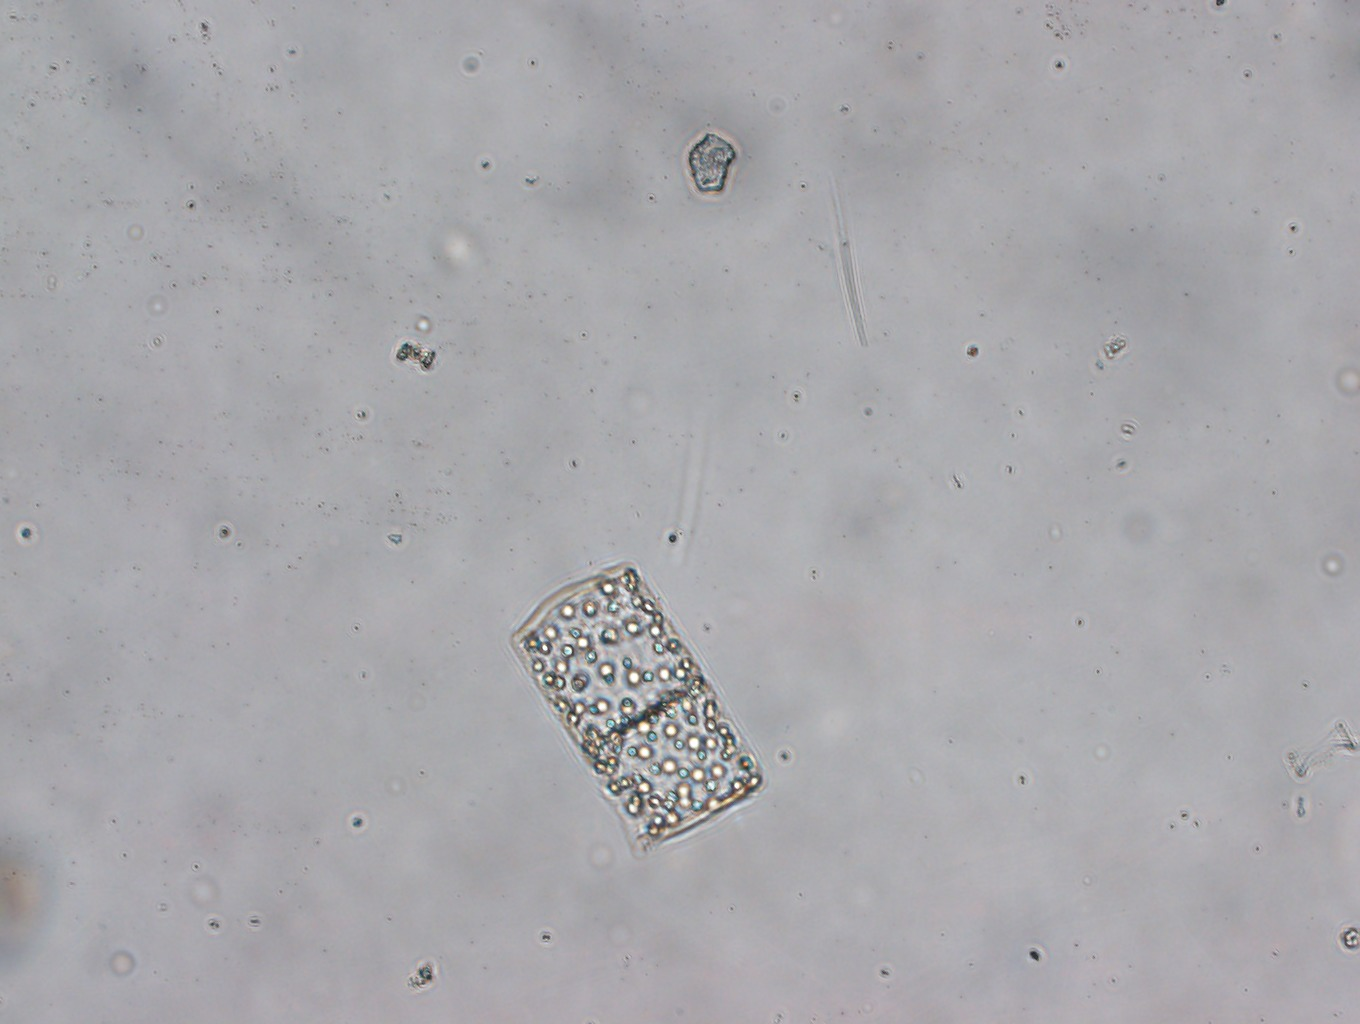guinardia flaccida: (506, 561, 759, 844)
